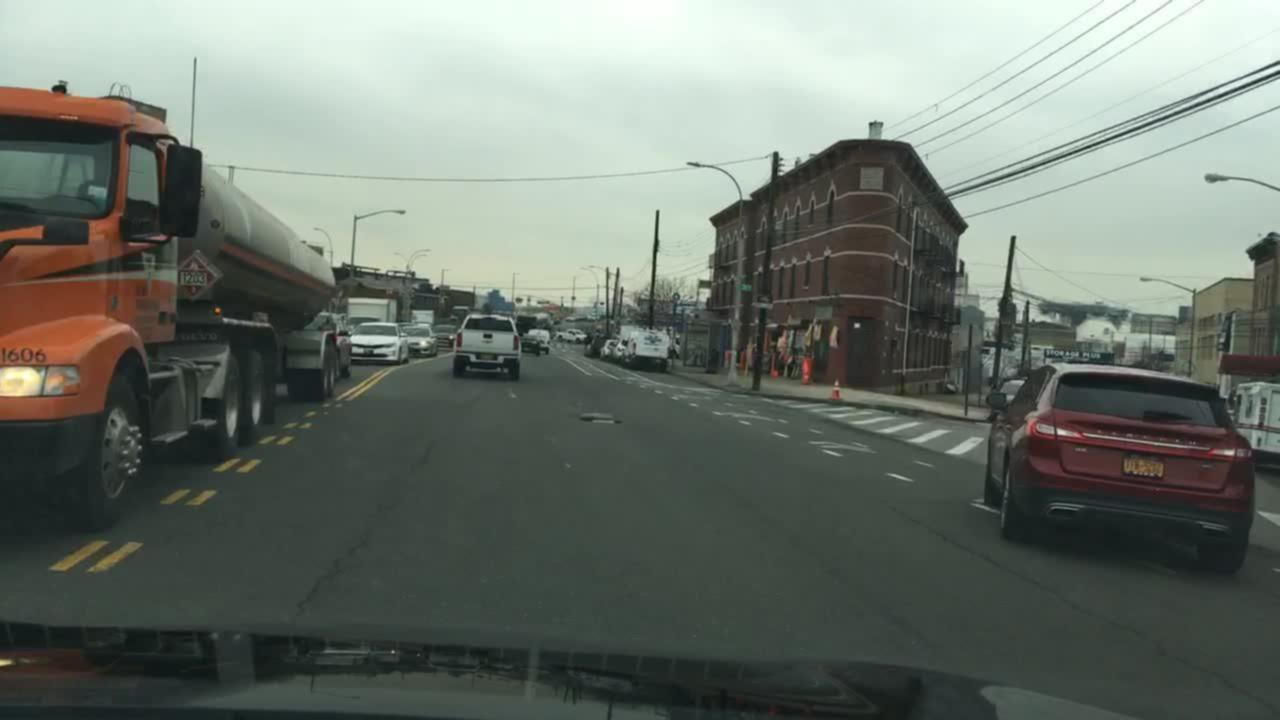lincoln: (1088, 423, 1201, 451)
